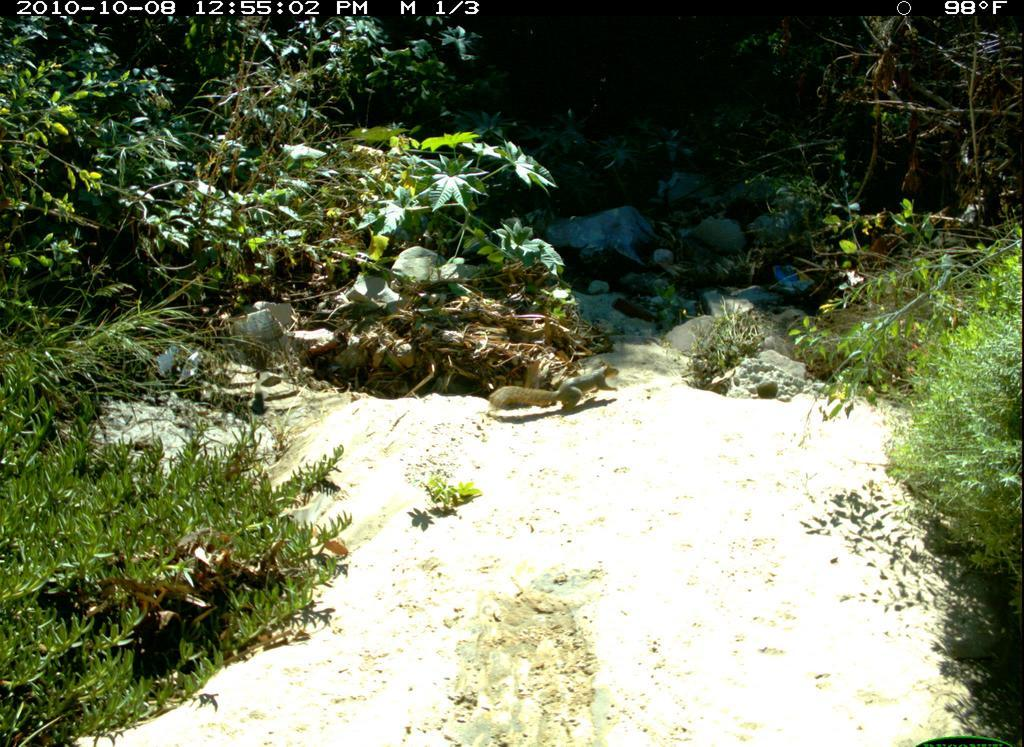squirrel: (461, 355, 642, 422)
